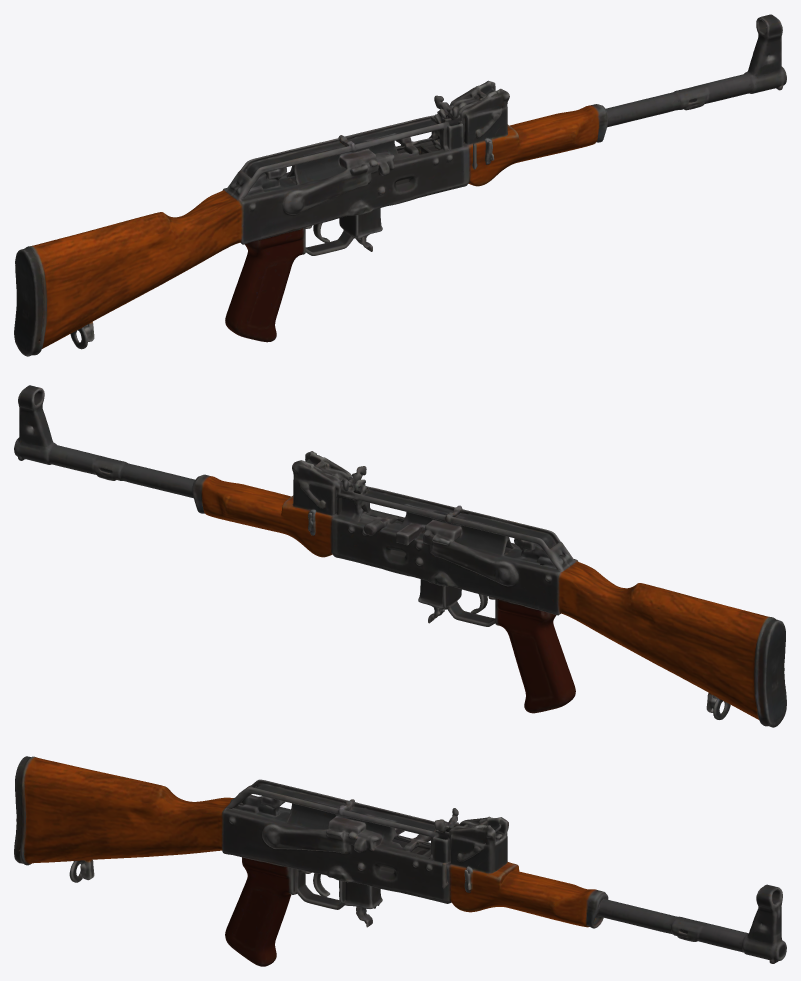
The model's file is body.glb.
3 renders of one model, top to bottom at view 1: azimuth 30°, elevation 25°; view 2: azimuth 150°, elevation 25°; view 3: azimuth 330°, elevation 25°, orthographic.
Parts seen in each view (by area): view 1: geometry_0; view 2: geometry_0; view 3: geometry_0.
Part boxes in pixels (x1,y1,x2,y2): geometry_0: (14,14,786,356); geometry_0: (14,385,786,727); geometry_0: (14,756,786,966).
Bounding box in the file's own units: 0.9947 × 0.2487 × 0.0753.
Materials: 1 (1 with a texture image).
